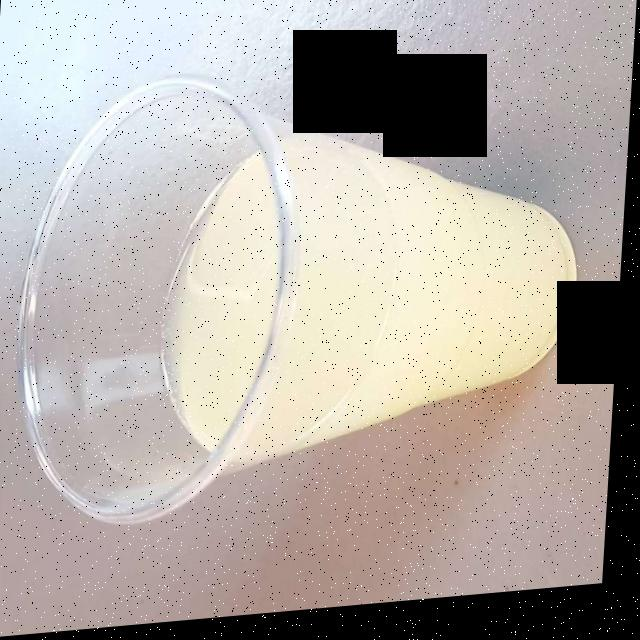water-with-lemon-juice: (151, 137, 599, 466)
